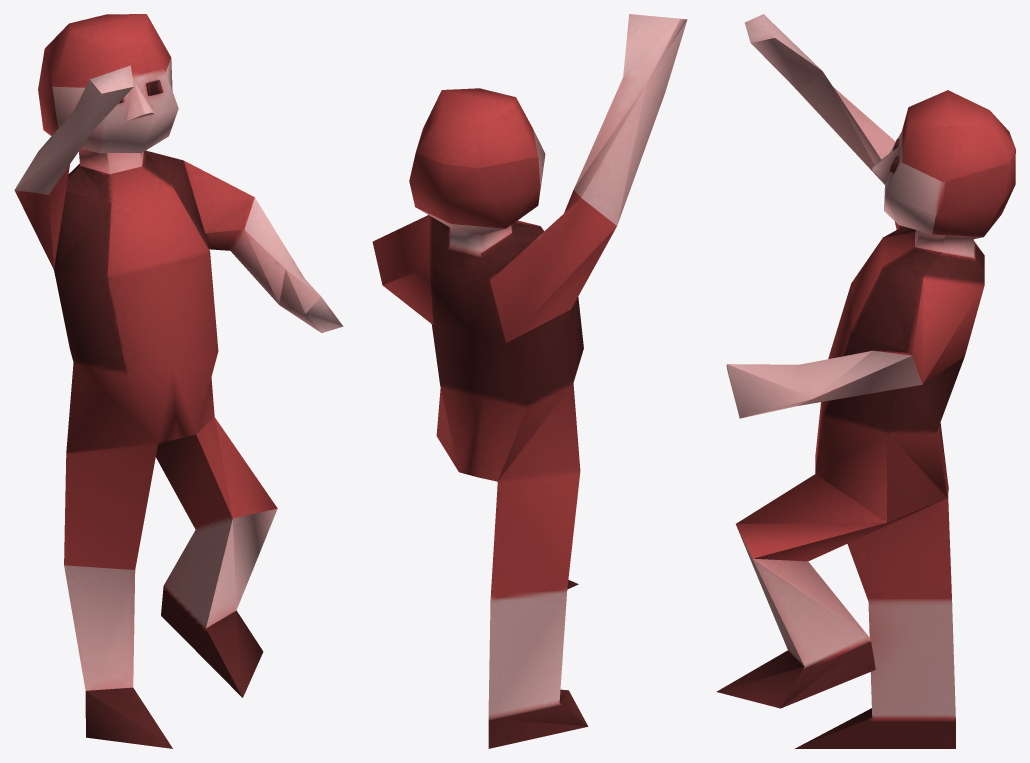
Rendered from barbarian.obj.
3 renders of one model, left to right at view 1: azimuth 30°, elevation 25°; view 2: azimuth 150°, elevation 25°; view 3: azimuth 270°, elevation 25°, orthographic. The views are drawn at different scales.
Parts seen in each view (by area): view 1: Character_Barbarian_2_AO; view 2: Character_Barbarian_2_AO; view 3: Character_Barbarian_2_AO.
Part boxes in pixels (box(x1,y1,x2,y2)): Character_Barbarian_2_AO: box(14, 14, 343, 748); Character_Barbarian_2_AO: box(372, 14, 687, 748); Character_Barbarian_2_AO: box(716, 14, 1015, 748).
Bounding box in the file's own units: 0.6517 × 1.78 × 0.7029.
1 material, 1 textured.
